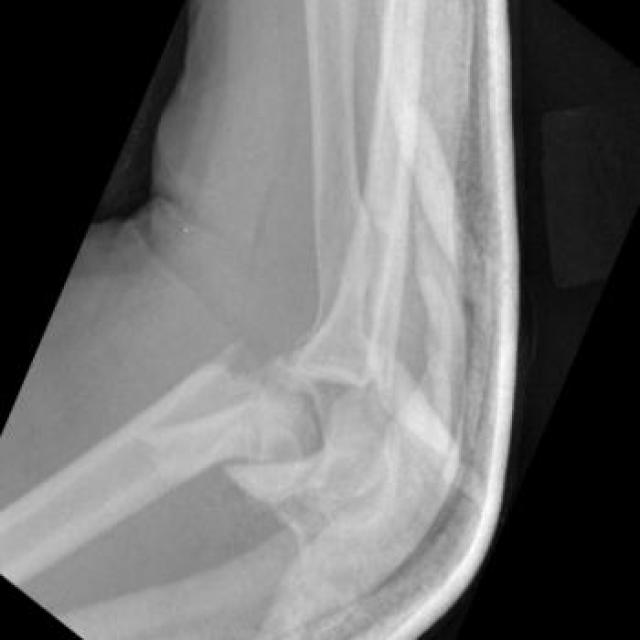Fracture: (220, 325, 316, 483)
